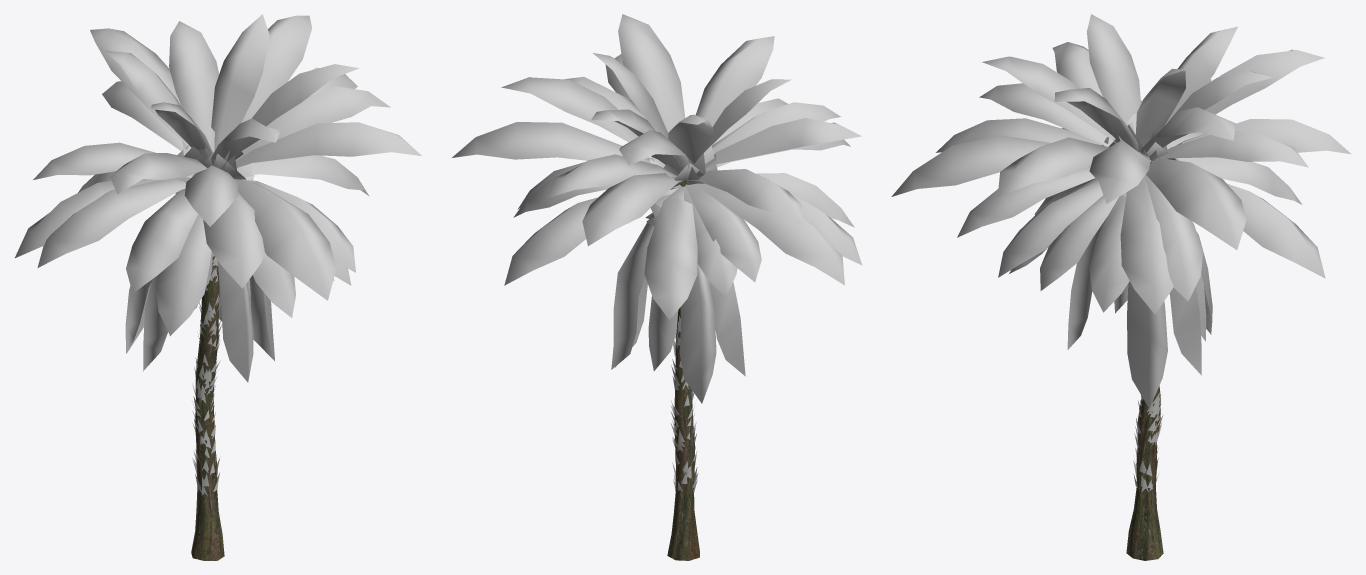
Rendered from Tree_07_1_L2.fbx.
3 renders of one model, left to right at view 1: azimuth 30°, elevation 25°; view 2: azimuth 150°, elevation 25°; view 3: azimuth 270°, elevation 25°, orthographic. The views are drawn at different scales.
Parts seen in each view (by area): view 1: polySurface18; view 2: polySurface18; view 3: polySurface18.
Part boxes in pixels (x1,y1,x2,y2): polySurface18: [15, 14, 421, 560]; polySurface18: [452, 14, 862, 560]; polySurface18: [891, 14, 1351, 560].
Bounding box in the file's own units: 730 × 952 × 763.
